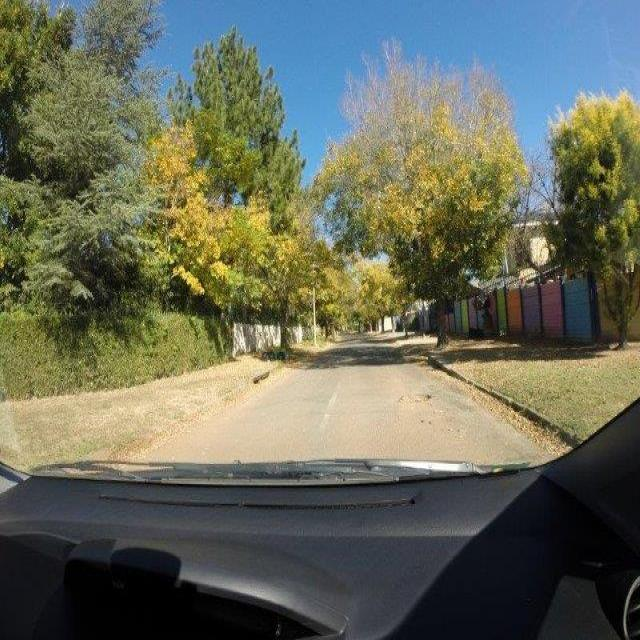lubang: (393, 388, 432, 407)
